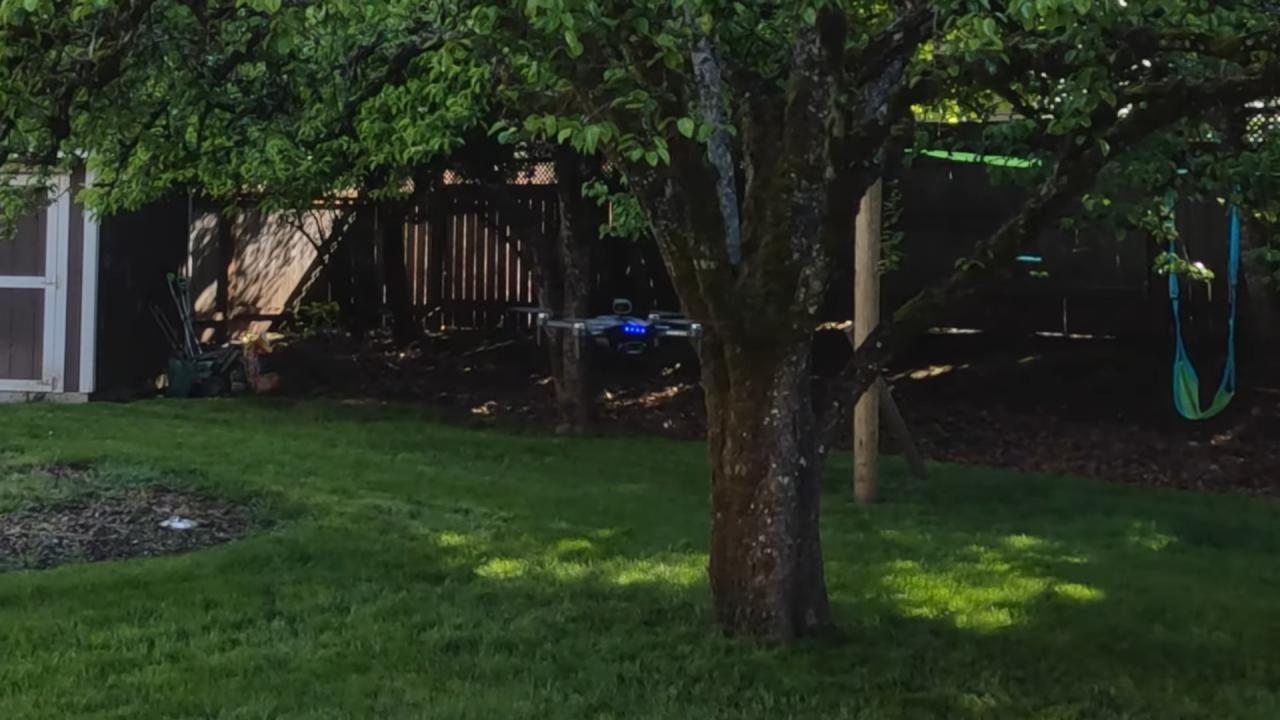Drone: (501, 291, 734, 369)
